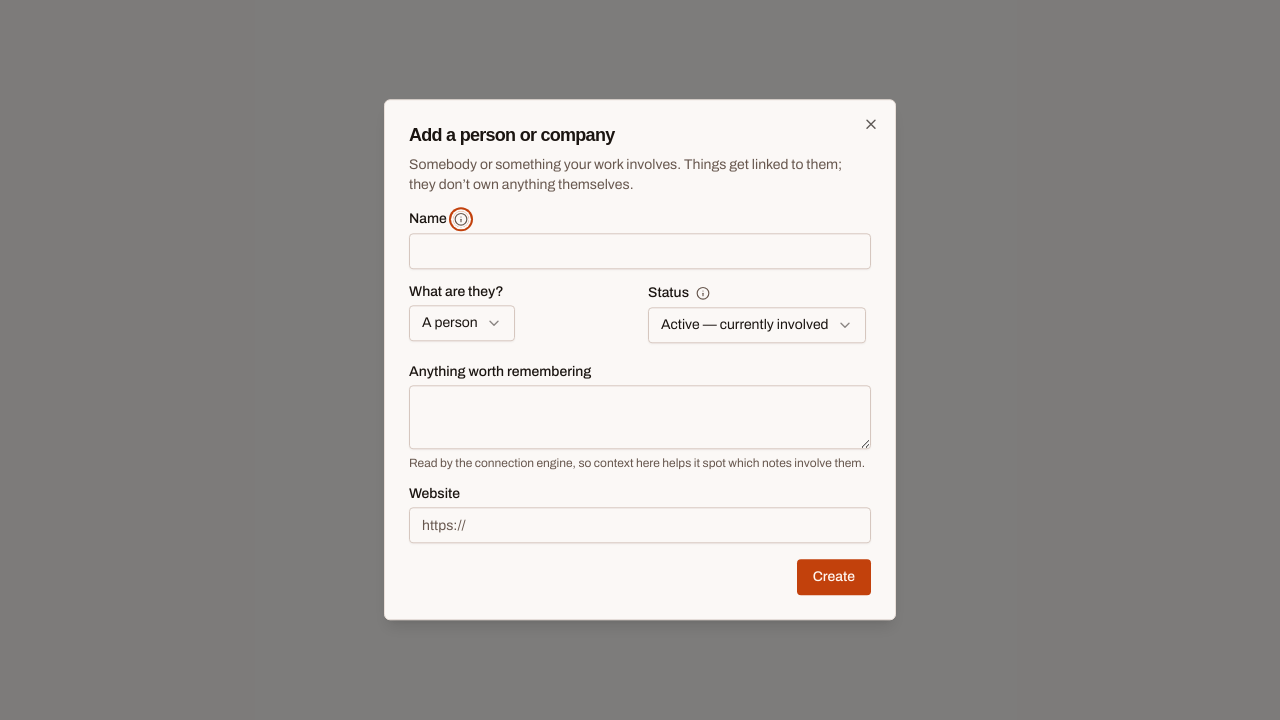
Test: EntityForm › rejects a website that is not a URL
Type "Someone" into the field labelled "Name".
click(640, 252); type("Someone")  # box [409, 234, 871, 270]
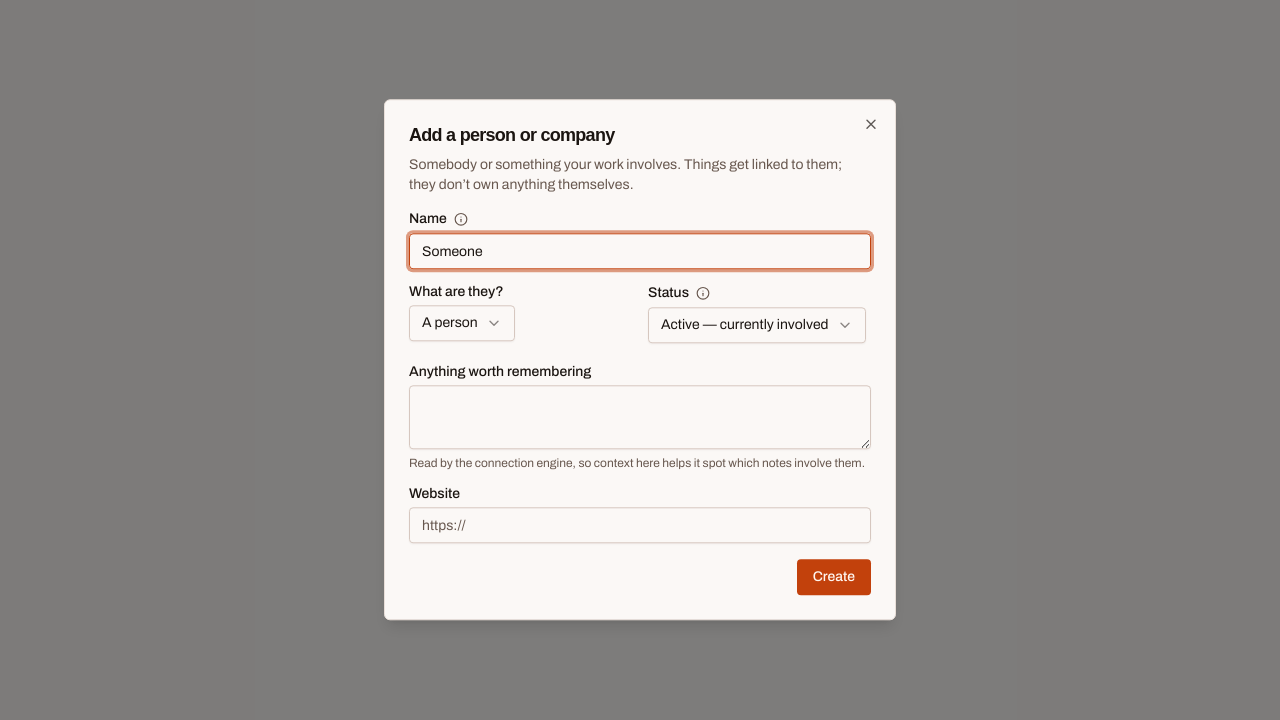
Type "not-a-url" into the field labelled "Website".
click(640, 526); type("not-a-url")  # box [409, 508, 871, 544]
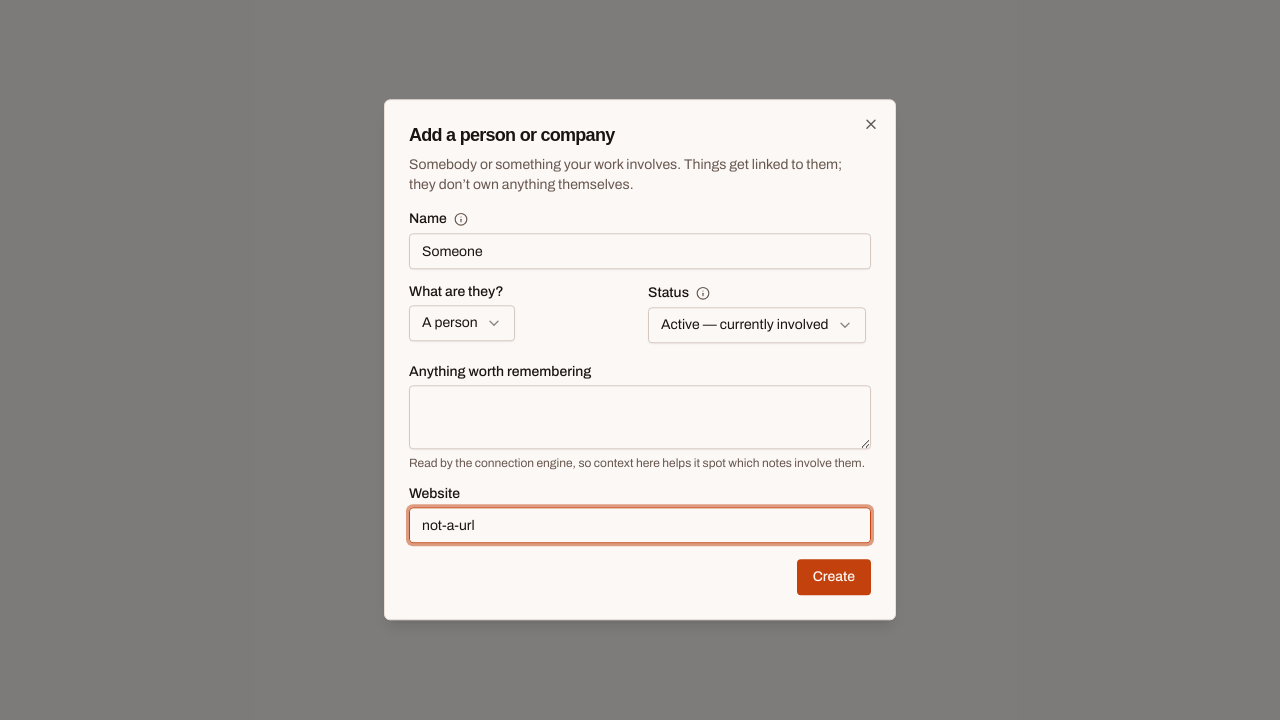
Click the button "Create".
click(834, 578)  # box [797, 560, 871, 596]
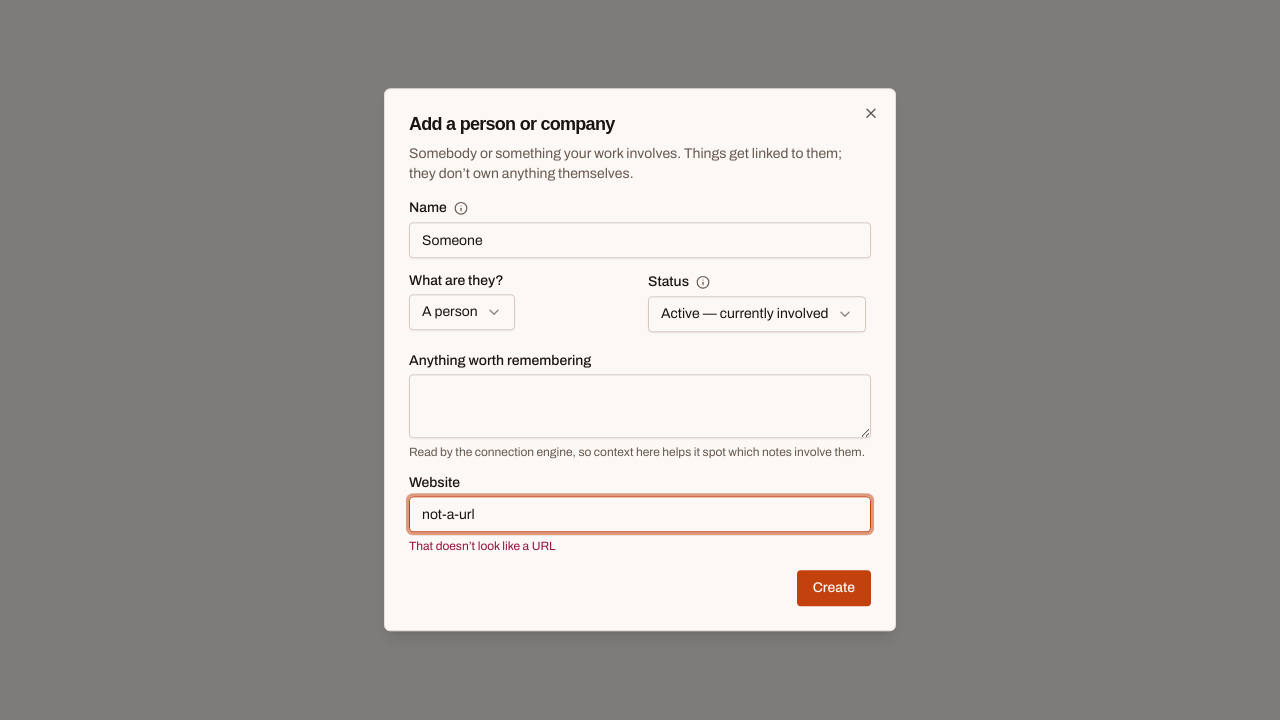
expect the text "That doesn’t look like a URL" is shown: met, box [409, 540, 556, 554]
